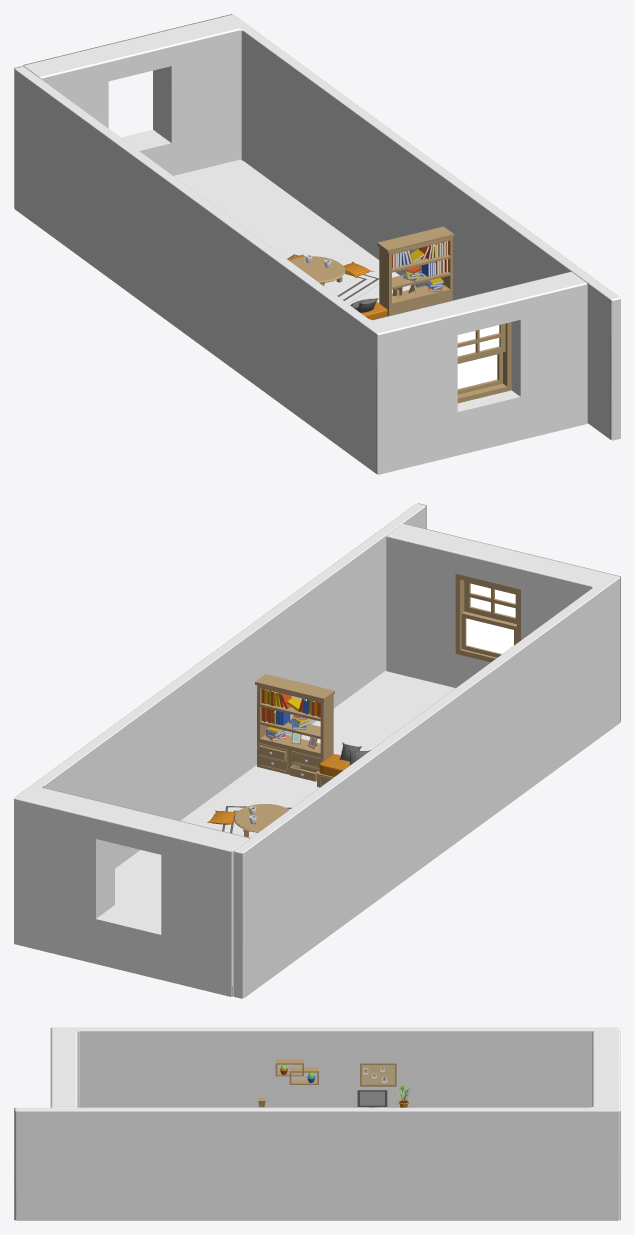
File: Prototype_Level.glb
The picture shows the model from 3 angles, top to bottom: view 1: azimuth 30°, elevation 25°; view 2: azimuth 150°, elevation 25°; view 3: azimuth 270°, elevation 25°; orthographic projection. The views are drawn at different scales.
Parts seen in each view (by area): view 1: Wall.002, Wall.001, Floor, Bookshelf, Window, Carpet, Coffe table, Book.001; view 2: Wall.002, Wall.001, Floor, Bookshelf, Window, Coffe table, Book.001; view 3: Wall.001, Wall.002, Board, Wallshelf, PC.
Boxes of the visible parts, x1,y1,x2,y2 form: Wall.002: (14, 66, 587, 474); Wall.001: (23, 14, 620, 440); Floor: (174, 159, 416, 305); Bookshelf: (377, 226, 454, 315); Window: (457, 322, 511, 403); Carpet: (283, 251, 379, 303); Coffe table: (290, 256, 345, 285); Book.001: (392, 241, 448, 268); Wall.002: (233, 523, 620, 998); Wall.001: (14, 503, 426, 996); Floor: (115, 671, 455, 996); Bookshelf: (255, 674, 334, 781); Window: (455, 573, 520, 662); Coffe table: (233, 804, 289, 837); Book.001: (261, 688, 320, 717); Wall.001: (14, 1031, 620, 1220); Wall.002: (50, 1027, 619, 1107); Board: (360, 1063, 396, 1086); Wallshelf: (275, 1059, 318, 1084); PC: (357, 1090, 387, 1107).
Bounding box in the file's own units: 8.8 × 5.37 × 26.88.
